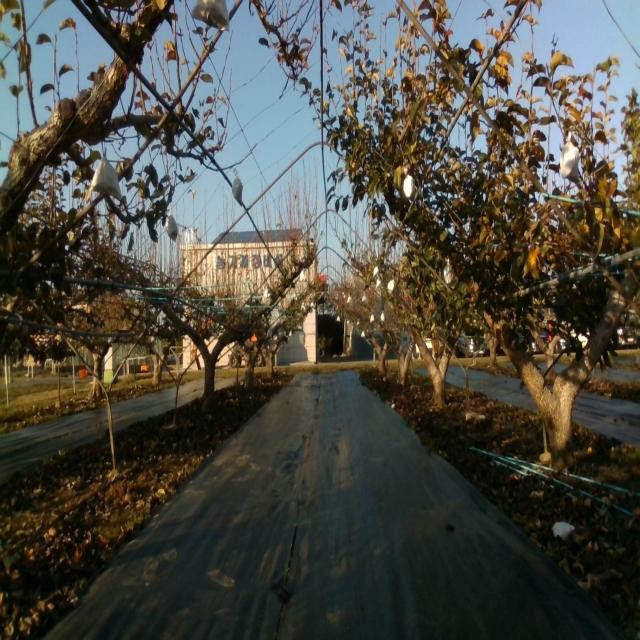pearbags: (90, 156, 122, 201), (192, 0, 230, 35), (560, 141, 579, 181), (230, 169, 243, 205), (165, 208, 178, 242), (403, 174, 416, 201), (443, 258, 453, 285)
